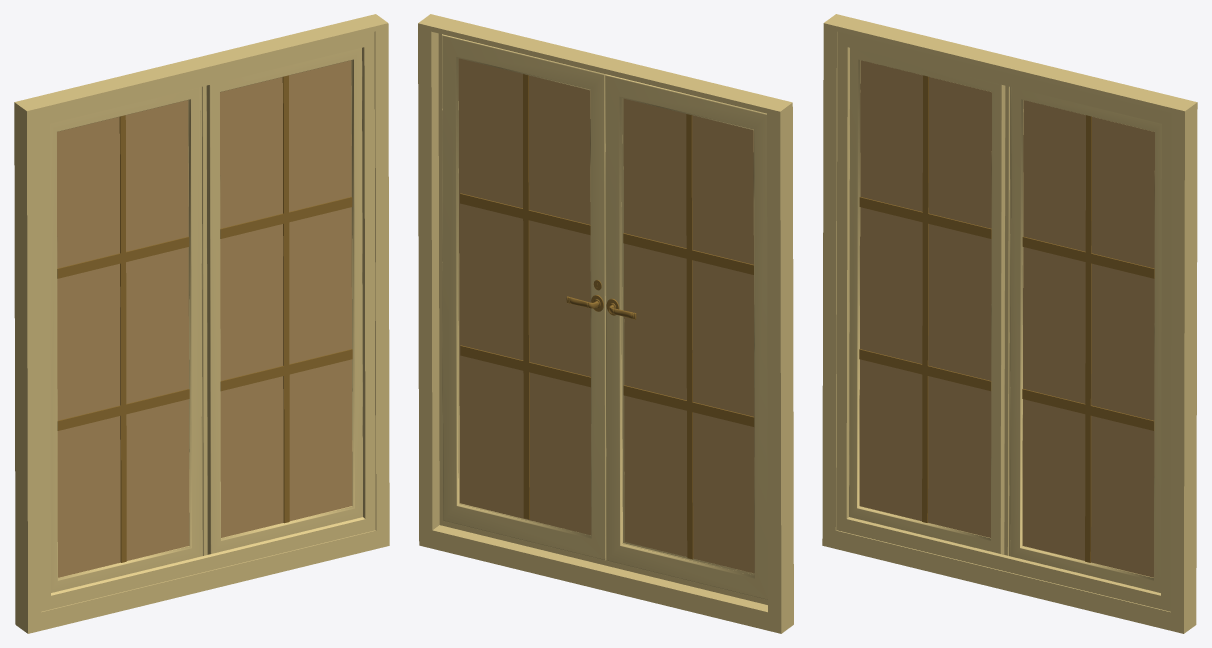
The model's file is ventana.gltf.
The picture shows the model from 3 angles, left to right: view 1: azimuth 30°, elevation 25°; view 2: azimuth 150°, elevation 25°; view 3: azimuth 330°, elevation 25°; orthographic projection.
Parts seen in each view (by area): view 1: 16639_12_Pane_Casement_Window-White_V1; view 2: 16639_12_Pane_Casement_Window-White_V1; view 3: 16639_12_Pane_Casement_Window-White_V1.
Boxes of the visible parts, left/top/right/bottom form: 16639_12_Pane_Casement_Window-White_V1: left=14, top=14, right=389, bottom=633; 16639_12_Pane_Casement_Window-White_V1: left=418, top=14, right=793, bottom=633; 16639_12_Pane_Casement_Window-White_V1: left=822, top=14, right=1197, bottom=633.
Size of the model in its own units: 5.56 by 7.67 by 0.3667.
